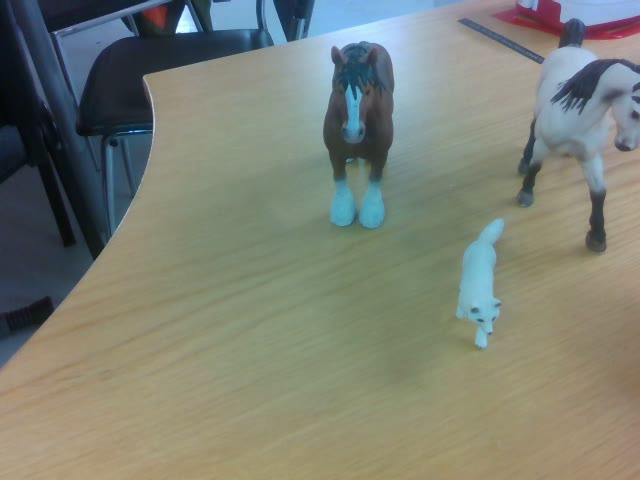toy: (515, 16, 640, 254), (323, 41, 395, 227), (452, 218, 507, 351)
